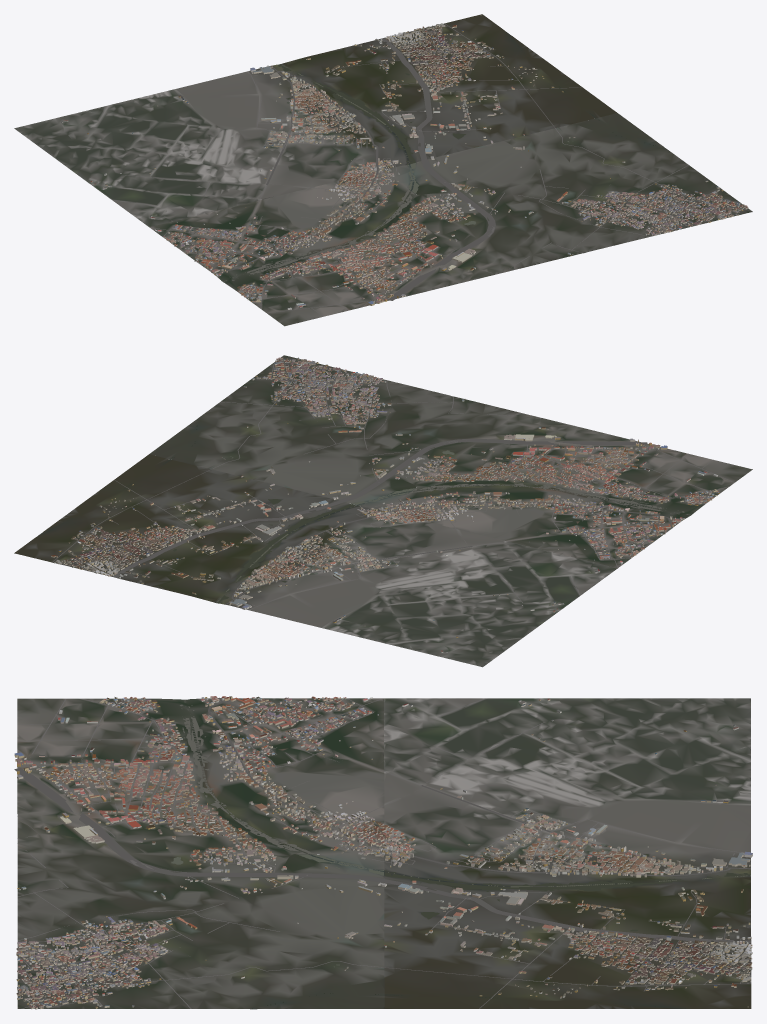
3 renders of one model, top to bottom at view 1: azimuth 30°, elevation 25°; view 2: azimuth 150°, elevation 25°; view 3: azimuth 270°, elevation 25°, orthographic. The views are drawn at different scales.
Parts seen in each view (by area): view 1: ground, buildings, roads, water; view 2: ground, buildings, roads, water; view 3: ground, buildings, roads, water.
Part boxes in pixels (x1,y1,x2,y2): ground: [14, 14, 752, 326]; buildings: [61, 15, 748, 309]; roads: [112, 23, 751, 316]; water: [223, 32, 666, 281]; ground: [14, 355, 752, 667]; buildings: [17, 357, 719, 652]; roads: [52, 356, 734, 610]; water: [38, 418, 689, 602]; ground: [17, 698, 751, 1009]; buildings: [14, 696, 752, 1009]; roads: [14, 697, 751, 1008]; water: [159, 700, 750, 1009].
Size of the model in its own units: 2819 by 29.65 by 2825.
